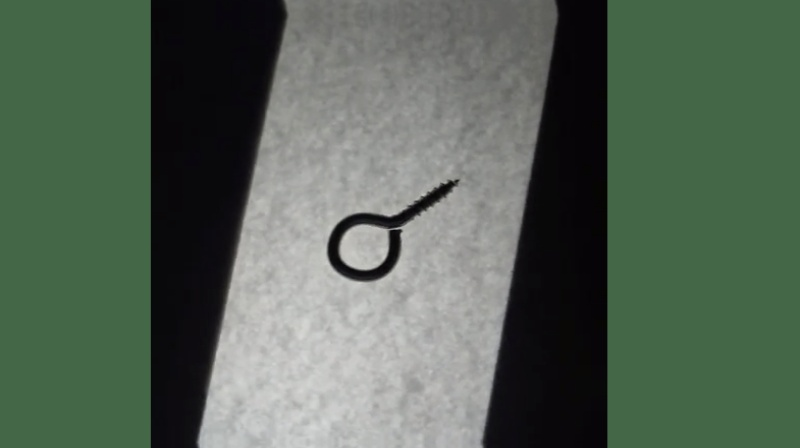O001: (324, 176, 466, 283)
